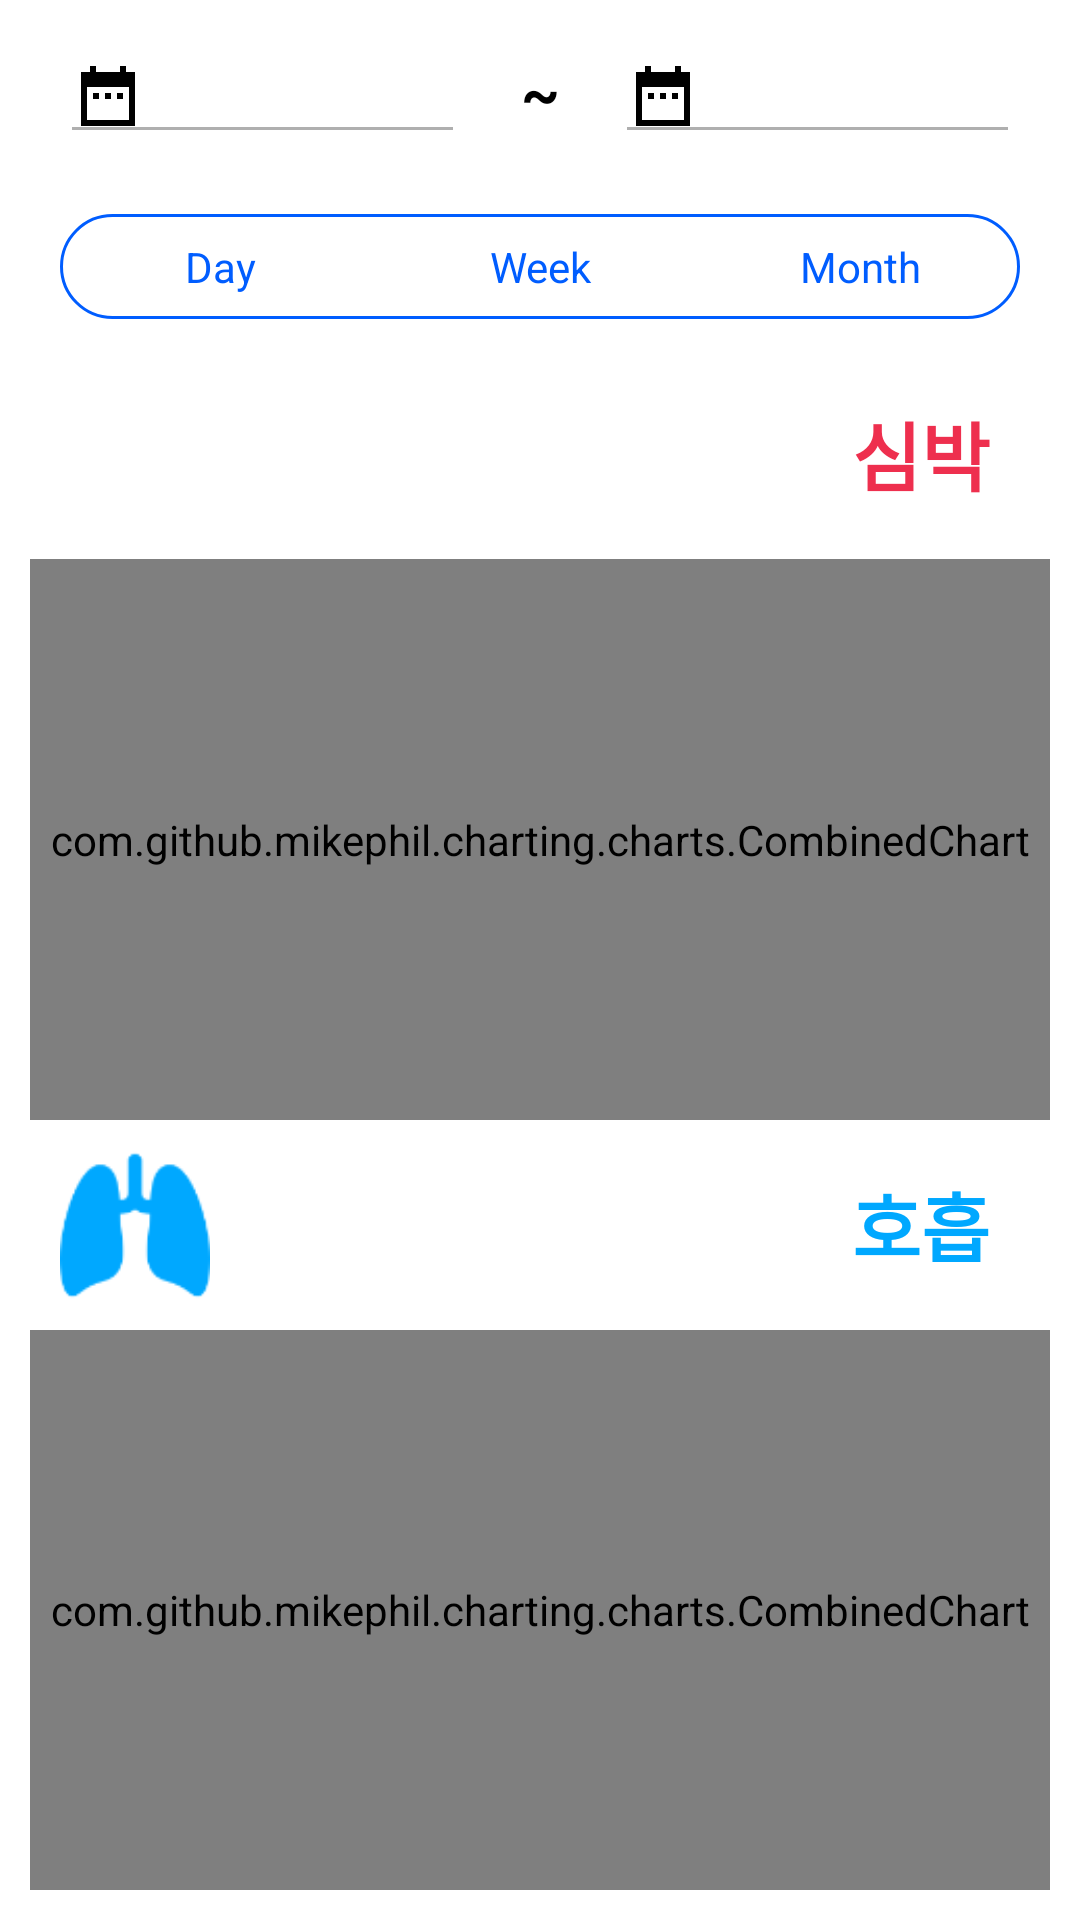

Icons on this 1080px x 1920px Android screen, each with its box as {"x1": x1, "y1": y1, "x2": x2, "y2": y2}:
lung: {"x1": 60, "y1": 1153, "x2": 210, "y2": 1297}
